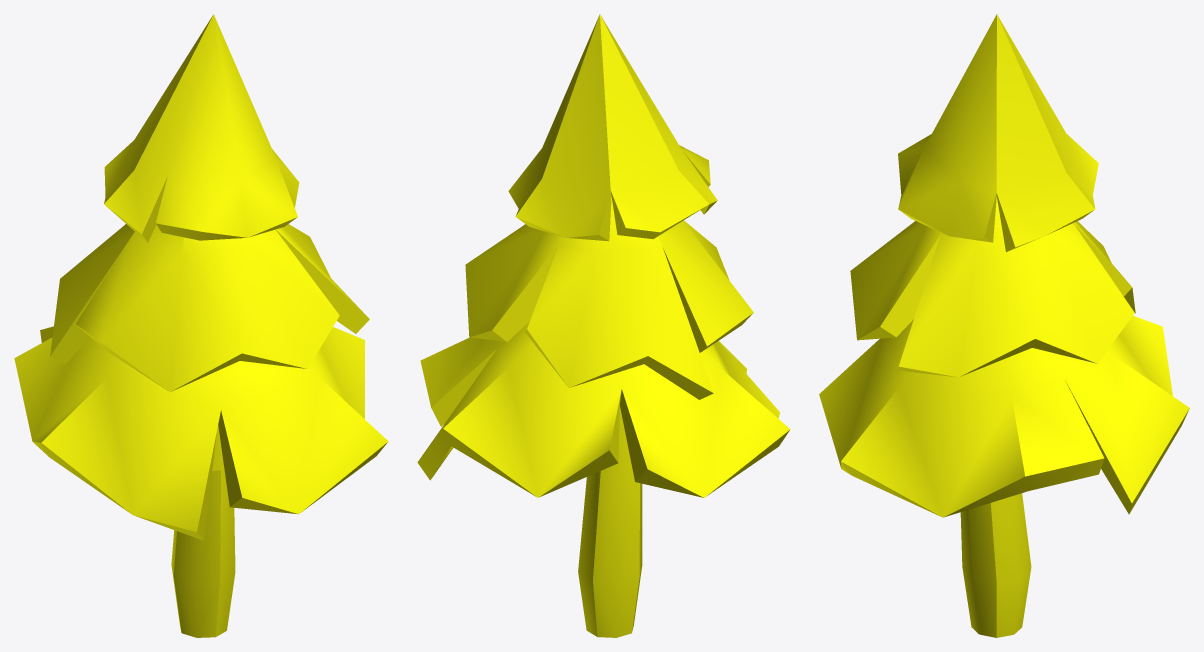
Rendered from kaykit-tree-pine-yellow-small.glb.
3 views of the same model, side by side, from view 1: azimuth 30°, elevation 25°; view 2: azimuth 150°, elevation 25°; view 3: azimuth 270°, elevation 25° (orthographic).
Parts seen in each view (by area): view 1: tree_pine_yellow_small; view 2: tree_pine_yellow_small; view 3: tree_pine_yellow_small.
Part boxes in pixels (x1,y1,x2,y2): tree_pine_yellow_small: (14,14,388,637); tree_pine_yellow_small: (417,14,790,637); tree_pine_yellow_small: (819,14,1189,637).
Size of the model in its own units: 2.4 by 4.04 by 2.2.
